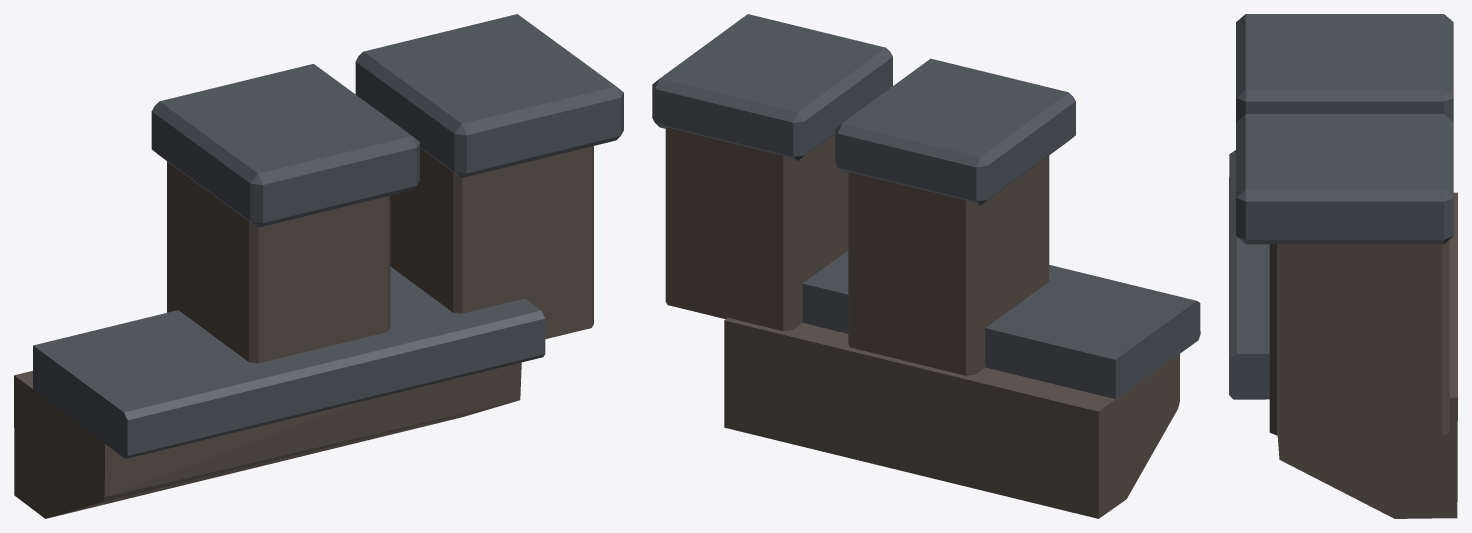
Rendered from MCastle_LargeTurrets_05.FBX.
3 views of the same model, side by side, from view 1: azimuth 30°, elevation 25°; view 2: azimuth 150°, elevation 25°; view 3: azimuth 270°, elevation 25° (orthographic). The views are drawn at different scales.
Visible parts, largest first — view 1: MCastle_LargeTurrets_05_LOD0; view 2: MCastle_LargeTurrets_05_LOD0; view 3: MCastle_LargeTurrets_05_LOD0.
Boxes of the visible parts, x1,y1,x2,y2 form: MCastle_LargeTurrets_05_LOD0: [14, 14, 623, 518]; MCastle_LargeTurrets_05_LOD0: [652, 14, 1200, 518]; MCastle_LargeTurrets_05_LOD0: [1229, 14, 1457, 518].
Size of what is drawn, in the model's own units: 4.86 by 3.37 by 1.9.
